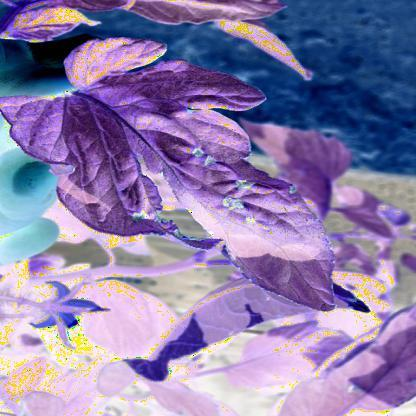Tomato leaf late blight: (12, 34, 337, 318)
